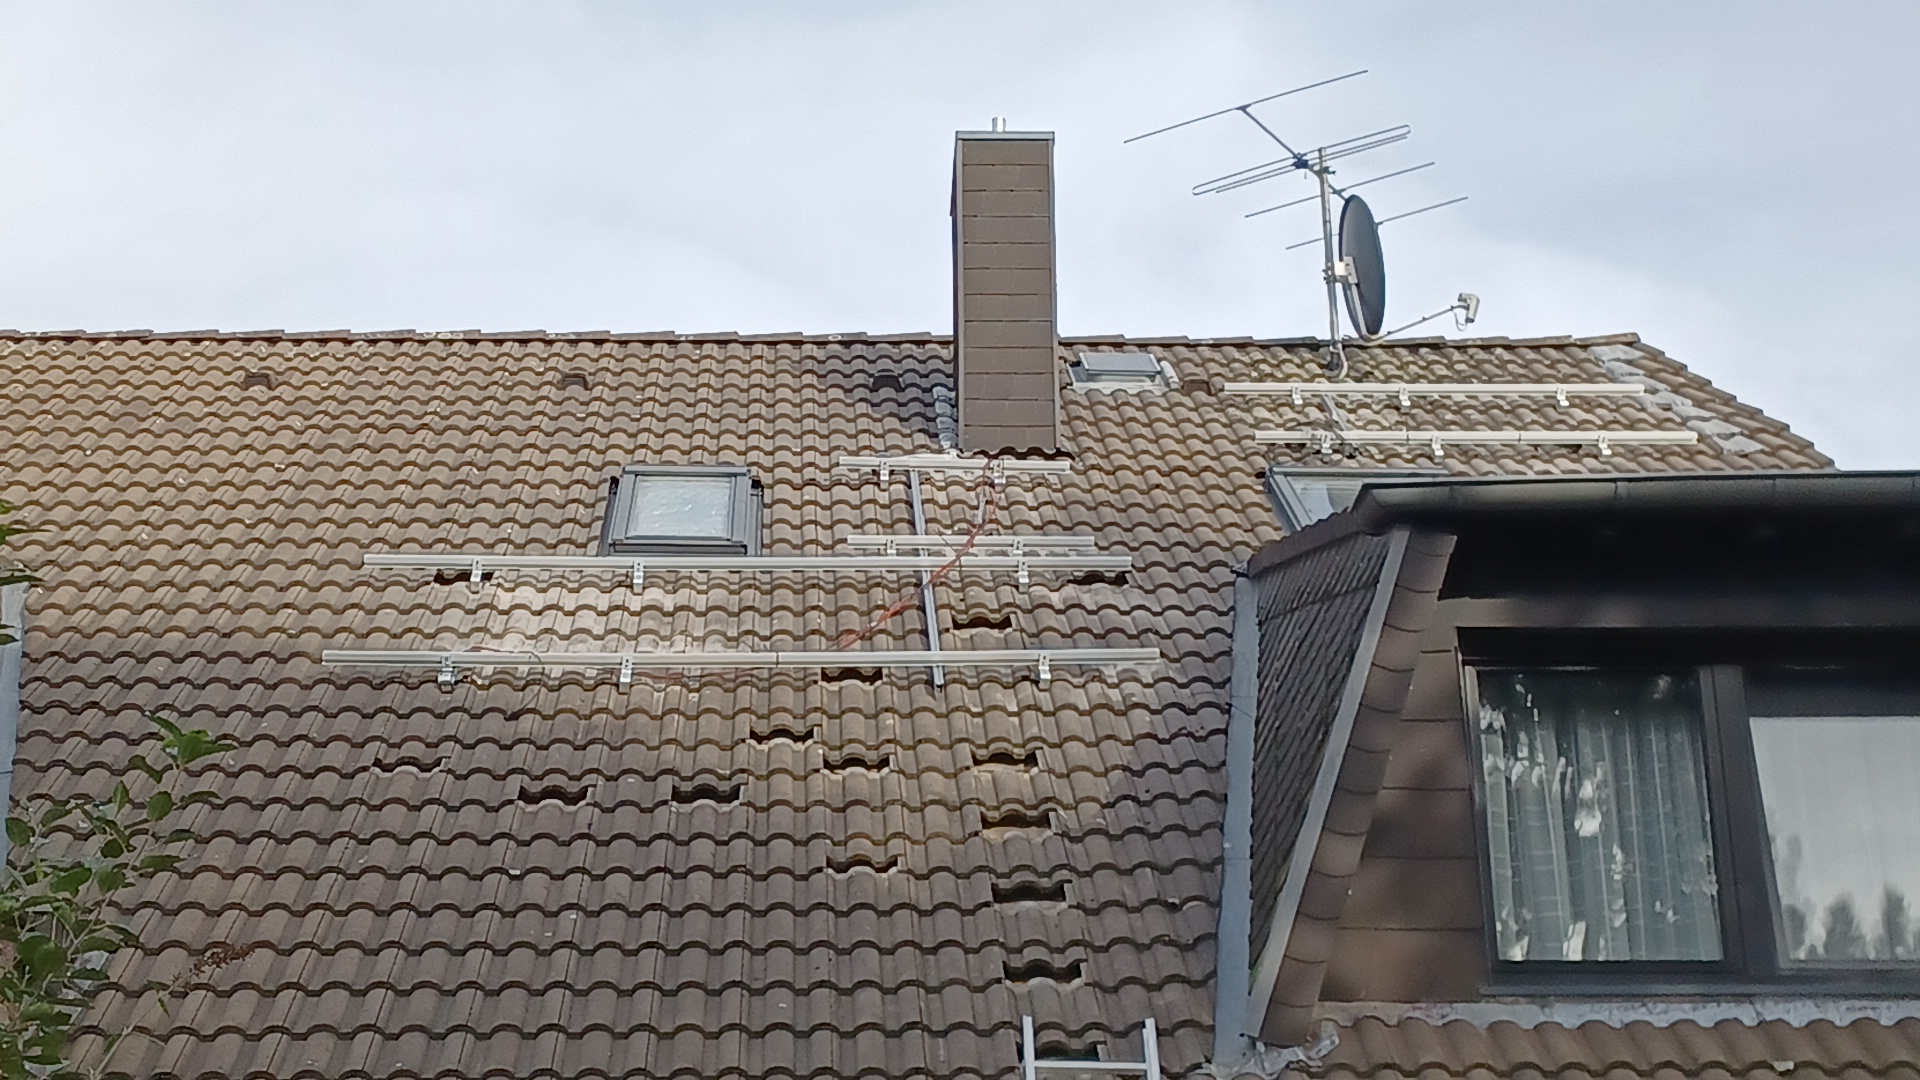hook: (438, 655, 456, 694), (618, 655, 632, 695), (1038, 653, 1051, 688), (469, 556, 481, 592), (1429, 433, 1443, 464), (1018, 560, 1030, 593), (1598, 434, 1611, 462), (993, 463, 1005, 492), (1399, 386, 1411, 414), (633, 559, 642, 595), (1321, 433, 1332, 463), (880, 460, 889, 491), (1292, 385, 1303, 411), (1557, 386, 1569, 407), (1011, 539, 1023, 556), (886, 538, 897, 556)
